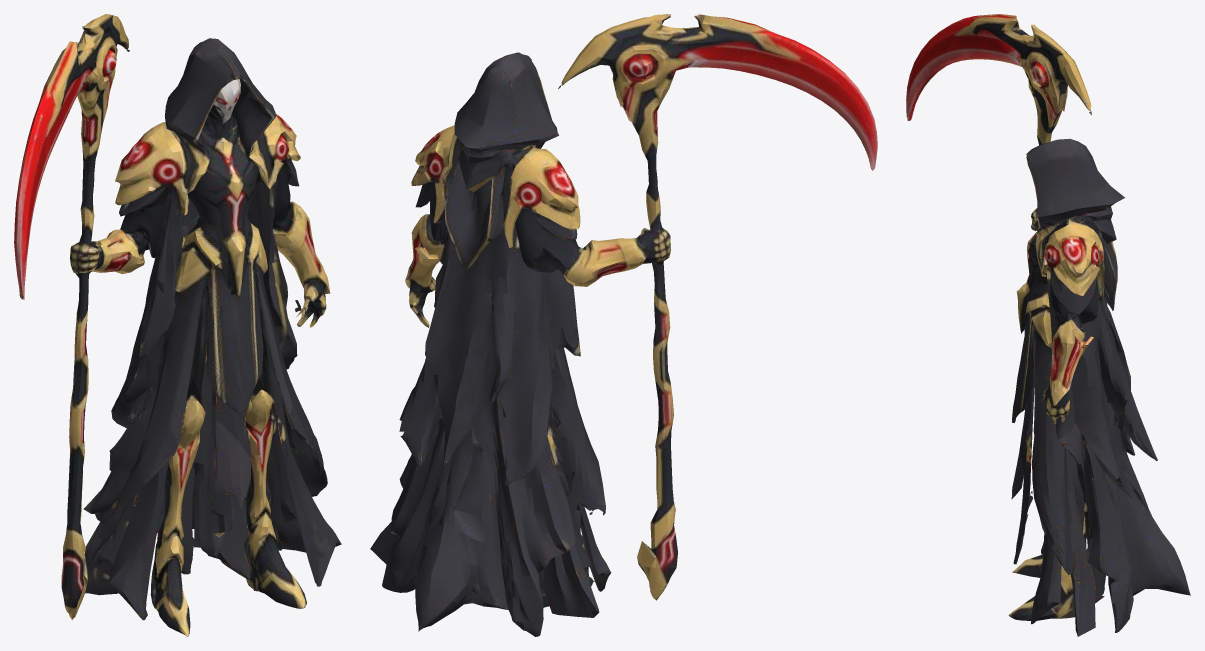
Rendered from reaper.glb.
The picture shows the model from 3 angles, left to right: view 1: azimuth 30°, elevation 25°; view 2: azimuth 150°, elevation 25°; view 3: azimuth 270°, elevation 25°; orthographic projection. The views are drawn at different scales.
Parts seen in each view (by area): view 1: Mesh0; view 2: Mesh0; view 3: Mesh0.
Part boxes in pixels (x1,y1,x2,y2): Mesh0: (14, 14, 341, 636); Mesh0: (370, 14, 877, 636); Mesh0: (906, 14, 1190, 636).
Size of the model in its own units: 1.36 by 1.9 by 0.9552.
Materials: 1 (1 with a texture image).
